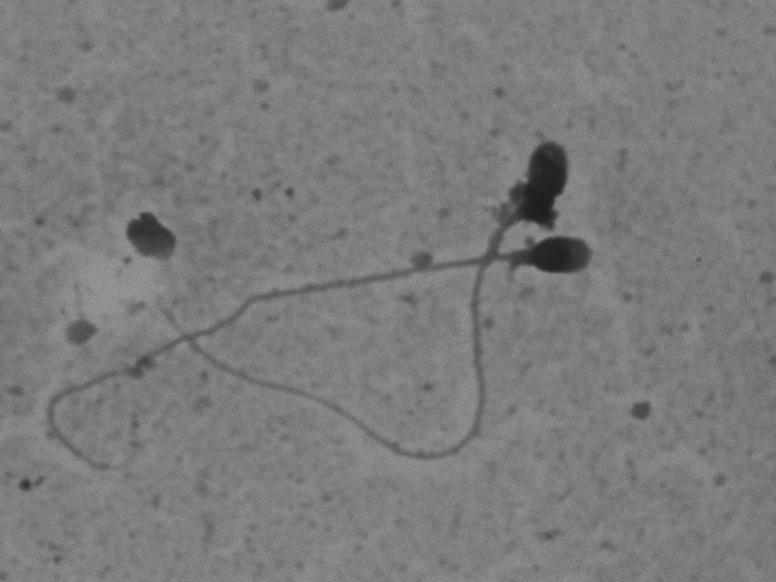Abnormal: (146, 123, 584, 467)
Normal: (32, 227, 607, 480)
